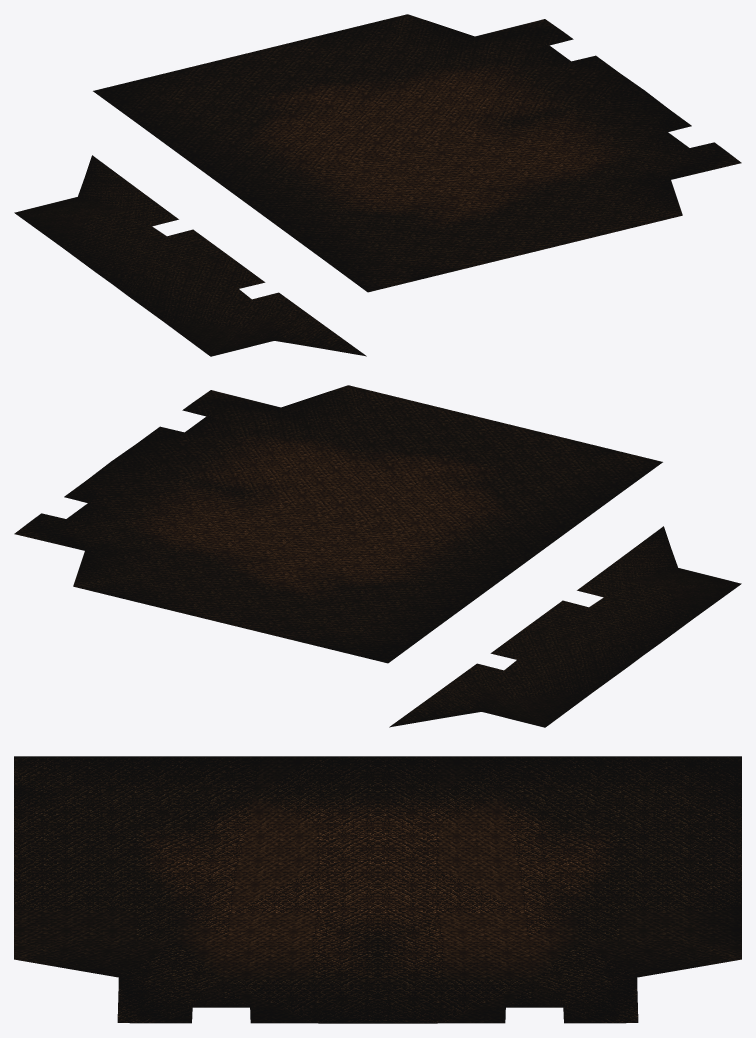
File: test-ceiling.glb
The picture shows the model from 3 angles, top to bottom: view 1: azimuth 30°, elevation 25°; view 2: azimuth 150°, elevation 25°; view 3: azimuth 270°, elevation 25°; orthographic projection. The views are drawn at different scales.
Visible parts, largest first — view 1: ceiling; view 2: ceiling; view 3: ceiling.
Boxes of the visible parts, box(x1,y1,x2,y2) form: ceiling: box(14, 14, 741, 356); ceiling: box(14, 385, 741, 727); ceiling: box(14, 756, 741, 1023).
Size of the model in its own units: 329 by 38.01 by 295.
1 material, 1 textured.
